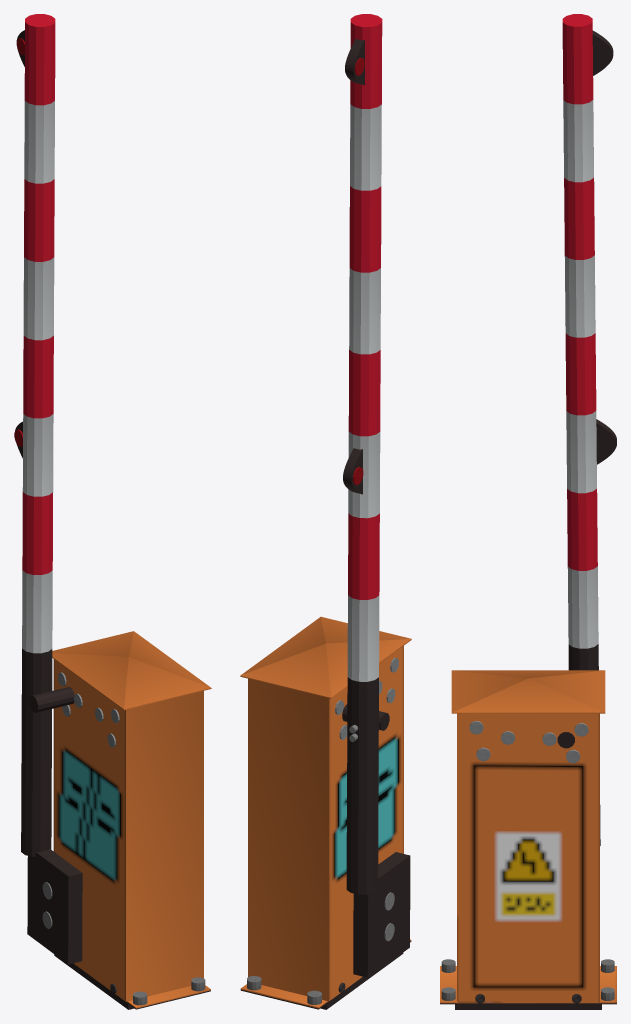
File: rhr-95_2m_prawo.obj
3 views of the same model, side by side, from view 1: azimuth 30°, elevation 25°; view 2: azimuth 150°, elevation 25°; view 3: azimuth 270°, elevation 25° (orthographic). The views are drawn at different scales.
Parts seen in each view (by area): view 1: cuboid, drag; view 2: cuboid, drag; view 3: cuboid, drag.
Boxes of the visible parts, x1,y1,x2,y2 form: cuboid: (52,631,211,1009); drag: (15,14,82,964); cuboid: (240,616,411,1009); drag: (342,14,410,977); cuboid: (440,670,616,1009); drag: (557,14,616,845).
Bounding box in the file's own units: 0.4022 × 3.03 × 0.5158.
Materials: 1 (1 with a texture image).
